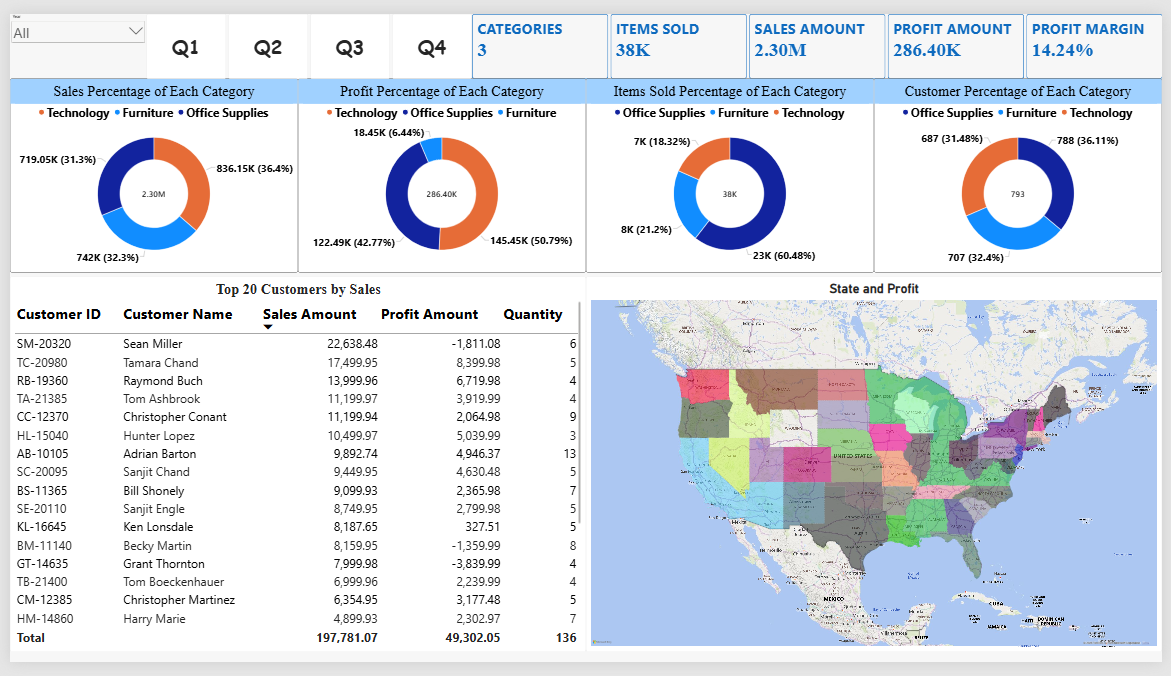

Layout of this report page (visuals, bound fields, positions):
{"tool":"powerbi","page":{"name":"Summary","canvas":[3840,2160],"ordinal":0},"visuals":[{"type":"cardVisual","fields":{"Data":["_measures.total_unique_category","_measures.itesm_sold","_measures.sales","_measures.profit","_measures.profit_margin"]},"box":[1540,0,2304,216],"z":0},{"type":"slicer","fields":{"Values":["Data.Year"]},"box":[0,0,455,215],"z":1},{"type":"donutChart","title":"Sales Percentage of Each Category","fields":{"Category":["Data.Category"],"Y":["_measures.sales"]},"box":[0,216.7,960,646.7],"z":2},{"type":"donutChart","title":"Profit Percentage of Each Category","fields":{"Category":["Data.Category"],"Y":["_measures.profit"]},"box":[960,216.7,960,646.7],"z":3},{"type":"donutChart","title":"Items Sold Percentage of Each Category","fields":{"Category":["Data.Category"],"Y":["_measures.itesm_sold"]},"box":[1920,216.7,960,646.7],"z":4},{"type":"donutChart","title":"Customer Percentage of Each Category","fields":{"Category":["Data.Category"],"Y":["_measures.total_unique_customers"]},"box":[2880,216.7,960,646.7],"z":5},{"type":"advancedSlicerVisual","fields":{"Values":["Date Table.Quarter"]},"box":[455,0,1085,216.7],"z":6},{"type":"tableEx","title":"Top 20  Customers by Sales","fields":{"Values":["Data.Customer ID","Data.Customer Name","Sum(Data.Sales)","Sum(Data.Profit)","Sum(Data.Quantity)"]},"box":[0,875,1920,1250],"z":7},{"type":"filledMap","fields":{"Category":["Data.State"],"Series":["Data.Profit"]},"box":[1920,875,1920,1250],"z":8}]}

Visuals, with their boxes in screenshot pixels (x1, y1, x2, y2), scaled from the page's 3840x2160 canvas onto the 1171x676 screenshot:
cardVisual - _measures.total_unique_category x _measures.itesm_sold: rect(470, 0, 1170, 68)
slicer - Data.Year: rect(0, 0, 139, 67)
"Sales Percentage of Each Category" donutChart: rect(0, 68, 293, 270)
"Profit Percentage of Each Category" donutChart: rect(293, 68, 586, 270)
"Items Sold Percentage of Each Category" donutChart: rect(586, 68, 878, 270)
"Customer Percentage of Each Category" donutChart: rect(878, 68, 1170, 270)
advancedSlicerVisual - Date Table.Quarter: rect(139, 0, 470, 68)
"Top 20  Customers by Sales" tableEx: rect(0, 274, 586, 665)
filledMap - Data.State x Data.Profit: rect(586, 274, 1170, 665)
